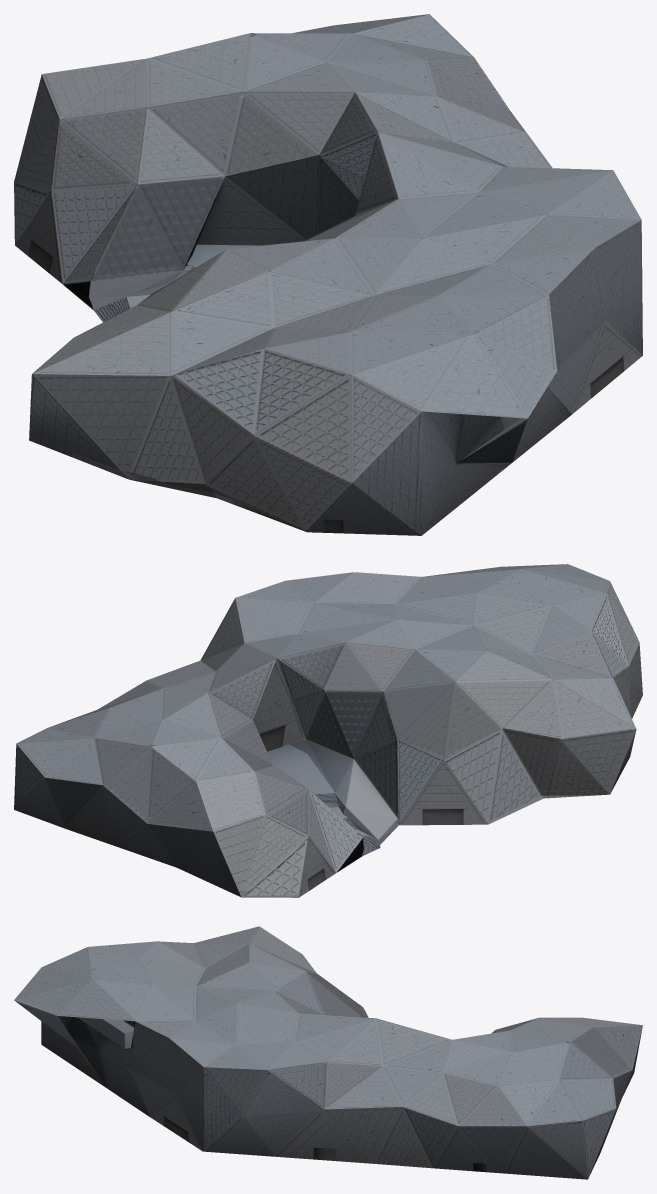
Rendered from a01_placed.glb.
The picture shows the model from 3 angles, top to bottom: view 1: azimuth 30°, elevation 25°; view 2: azimuth 150°, elevation 25°; view 3: azimuth 270°, elevation 25°; orthographic projection. The views are drawn at different scales.
Visible parts, largest first — view 1: a01.001; view 2: a01.001; view 3: a01.001.
Part boxes in pixels (x1=…): a01.001: x1=14, y1=14, x2=642, y2=535; a01.001: x1=14, y1=564, x2=642, y2=897; a01.001: x1=14, y1=926, x2=642, y2=1179.
Bounding box in the file's own units: 113 × 30.71 × 151.
1 material, 1 textured.
